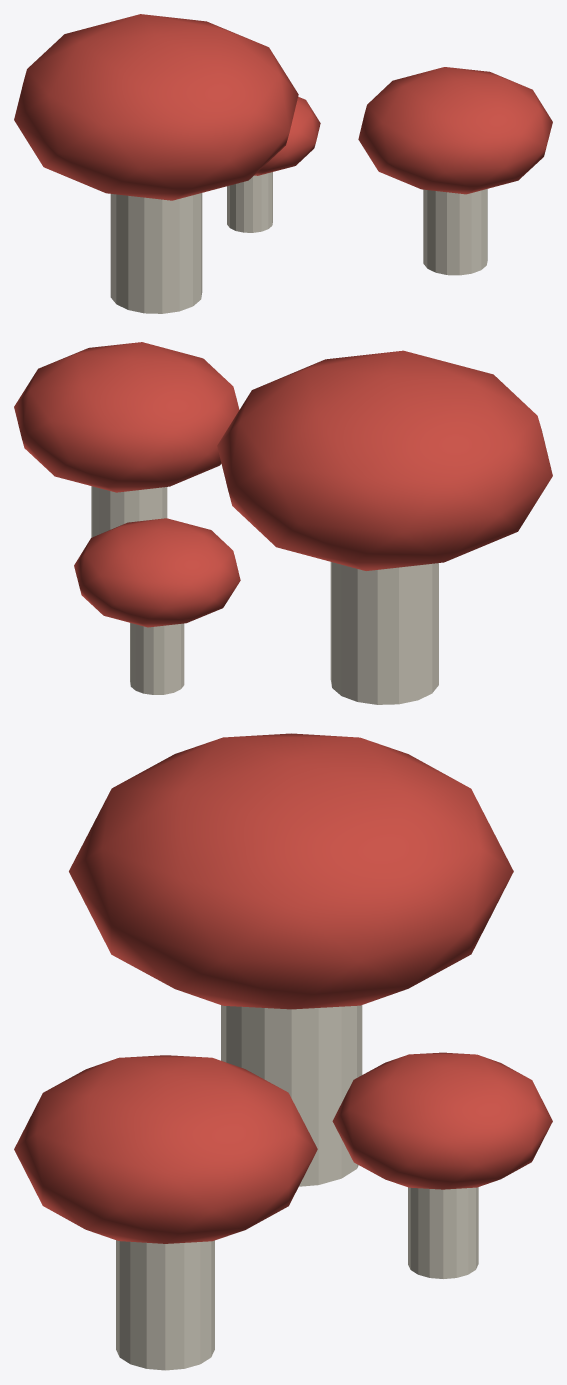
File: mushroom_patch_02.glb
The picture shows the model from 3 angles, top to bottom: view 1: azimuth 30°, elevation 25°; view 2: azimuth 150°, elevation 25°; view 3: azimuth 270°, elevation 25°; orthographic projection. The views are drawn at different scales.
Visible parts, largest first — view 1: Cylinder; view 2: Cylinder; view 3: Cylinder.
Boxes of the visible parts, x1,y1,x2,y2 form: Cylinder: [14, 14, 552, 313]; Cylinder: [14, 342, 552, 704]; Cylinder: [14, 733, 552, 1370].
Size of the model in its own units: 0.3212 by 0.1733 by 0.2135.
